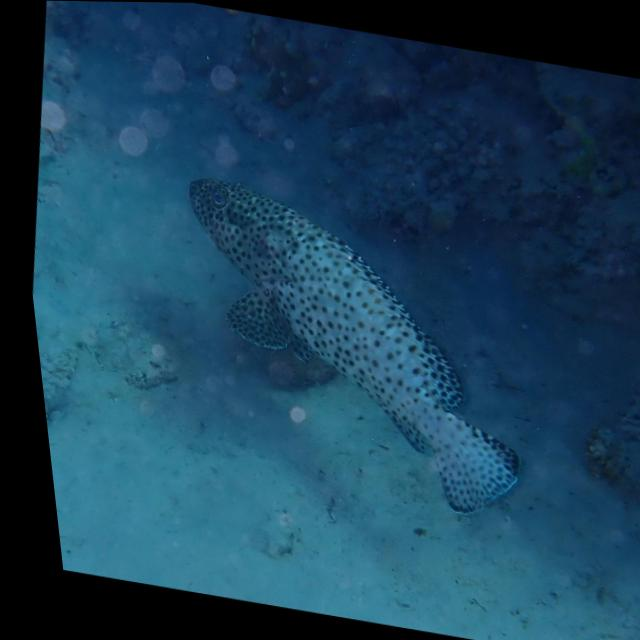Groupers: (138, 171, 570, 525)
